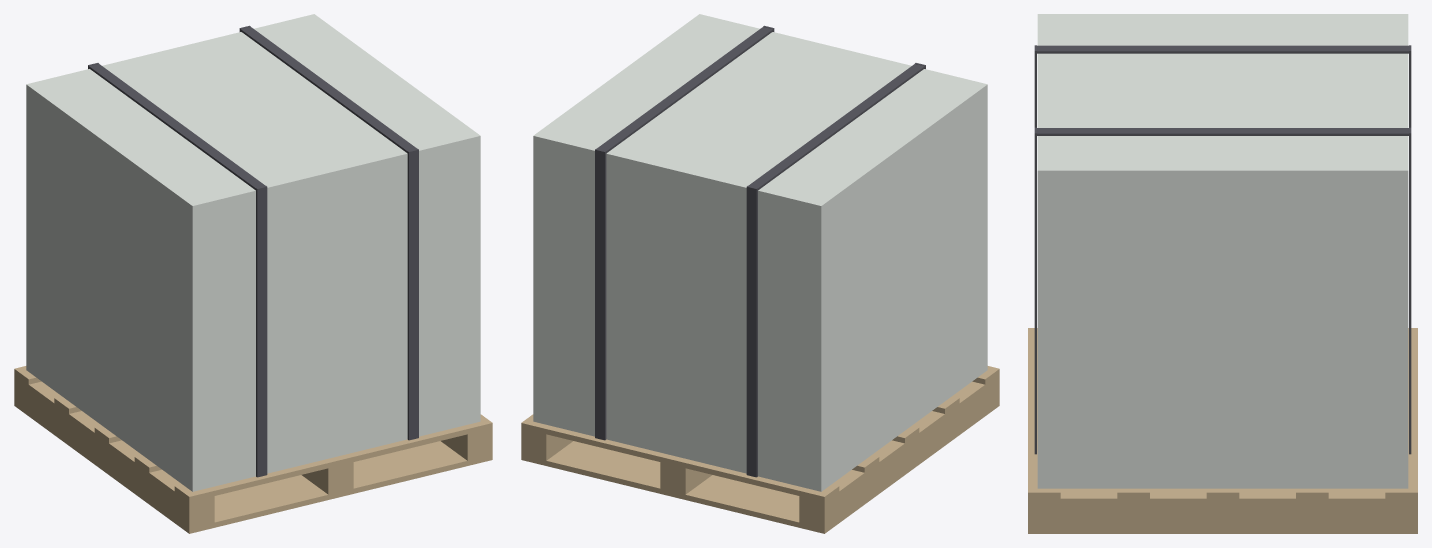
Rendered from dm_moneypallet.glb.
The picture shows the model from 3 angles, left to right: view 1: azimuth 30°, elevation 25°; view 2: azimuth 150°, elevation 25°; view 3: azimuth 270°, elevation 25°; orthographic projection. The views are drawn at different scales.
Visible parts, largest first — view 1: dm_moneypallet; view 2: dm_moneypallet; view 3: dm_moneypallet.
Part boxes in pixels (x1,y1,x2,y2): dm_moneypallet: (14, 14, 492, 533); dm_moneypallet: (521, 14, 999, 533); dm_moneypallet: (1028, 14, 1417, 533).
Bounding box in the file's own units: 1.2 × 1.23 × 1.2.
